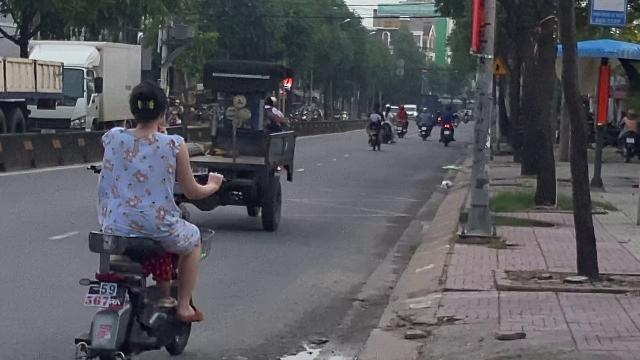motorcyclist: (74, 76, 218, 358)
nohelmet: (126, 80, 170, 128)
